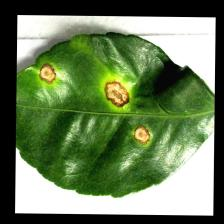canker: (37, 61, 158, 146)
